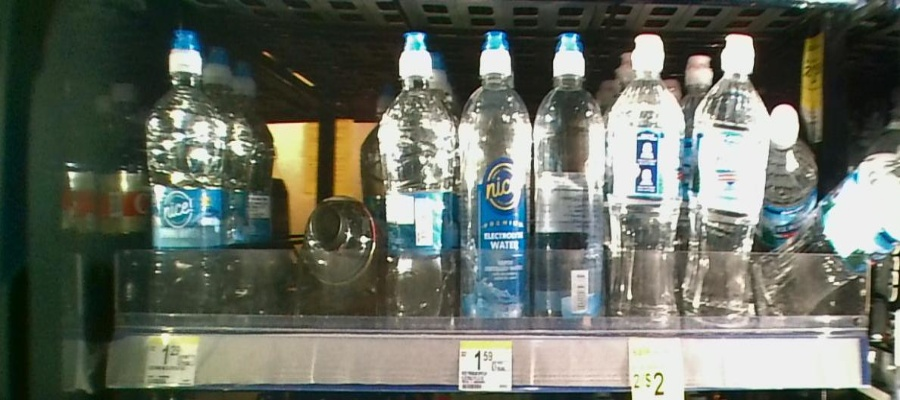bottle: (145, 22, 227, 323), (610, 32, 688, 334), (380, 27, 454, 331), (692, 31, 767, 330), (460, 30, 534, 331), (539, 31, 605, 338), (298, 185, 375, 291)
